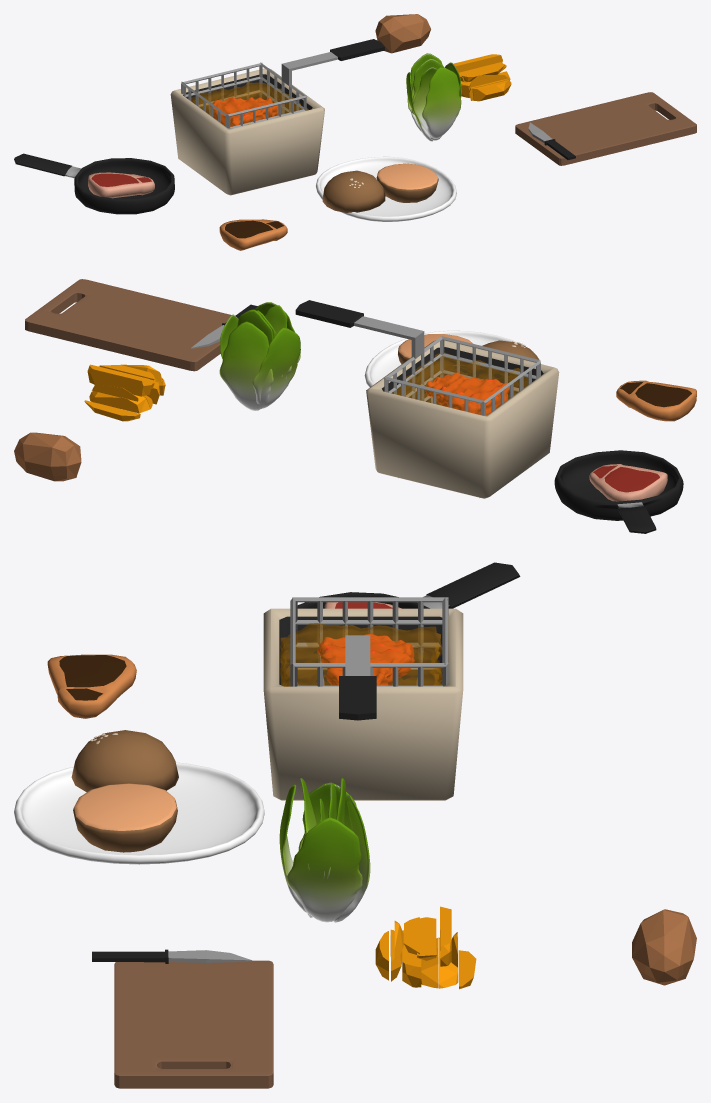
File: cooking.fbx
The picture shows the model from 3 angles, top to bottom: view 1: azimuth 30°, elevation 25°; view 2: azimuth 150°, elevation 25°; view 3: azimuth 270°, elevation 25°; orthographic projection. The views are drawn at different scales.
Parts seen in each view (by area): view 1: fryer, board, pan, fryer_net, plate, fryer_oil, bun_top, leaf.001, bun_bottom, pork_deepfried, pork, pork_fried (+7 smaller); view 2: fryer, board, fryer_net, pan, fryer_oil, leaf, pork_deepfried, pork, leaf.007, pork_fried, plate, potato_fried.003 (+10 smaller); view 3: fryer, board, plate, fryer_net, fryer_oil, bun_bottom, leaf.006, bun_top, pork_deepfried, pan, pork_fried, knife (+5 smaller).
Boxes of the visible parts, x1,y1,x2,y2 form: fryer: (170,68,324,195); board: (515,92,696,165); pan: (14,153,174,214); fryer_net: (181,39,384,128); plate: (316,156,456,221); fryer_oil: (191,82,308,126); bun_top: (322,170,385,212); leaf.001: (422,67,461,138); bun_bottom: (376,163,438,202); pork_deepfried: (219,219,287,250); pork: (88,172,154,198); pork_fried: (210,97,278,126); fryer: (366,340,559,498); board: (25,279,231,371); fryer_net: (295,300,540,415); pan: (554,450,683,533); fryer_oil: (392,352,528,414); leaf: (219,321,273,410); pork_deepfried: (616,380,696,421); pork: (589,464,667,501); leaf.007: (252,327,300,408); pork_fried: (425,372,509,414); plate: (364,330,539,387); potato_fried.003: (87,364,151,396); fryer: (263,608,463,800); board: (114,960,273,1088); plate: (14,762,264,864); fryer_net: (290,597,448,720); fryer_oil: (280,623,442,686); bun_bottom: (73,783,177,852); leaf.006: (286,817,362,922); bun_top: (71,730,178,792); pork_deepfried: (47,654,136,718); pan: (297,562,520,608); pork_fried: (317,633,414,685); knife: (92,949,252,963).
Bounding box in the file's own units: 1182 × 198 × 714.
Materials: 18 (1 with a texture image).
